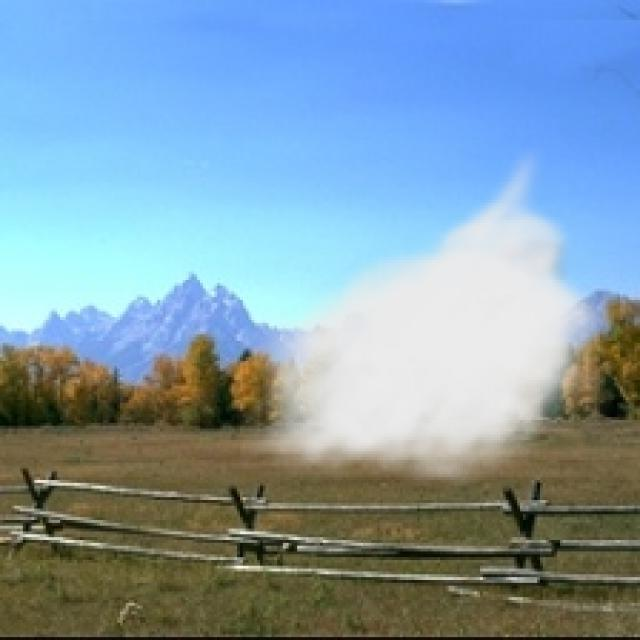smoke: (237, 143, 614, 491)
